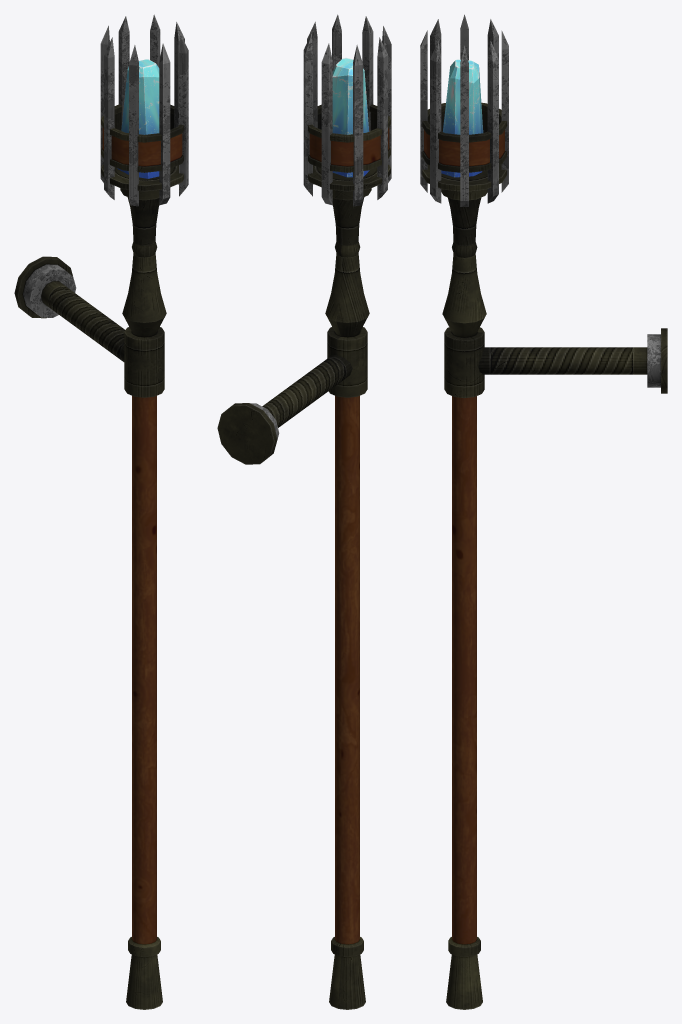
Rendered from DS_WizLab_Furn_WallLight.fbx.
The picture shows the model from 3 angles, left to right: view 1: azimuth 30°, elevation 25°; view 2: azimuth 150°, elevation 25°; view 3: azimuth 270°, elevation 25°; orthographic projection.
Visible parts, largest first — view 1: DS_WizLab_Furn_WallLight; view 2: DS_WizLab_Furn_WallLight; view 3: DS_WizLab_Furn_WallLight.
Boxes of the visible parts, x1=… form: DS_WizLab_Furn_WallLight: x1=14, y1=14, x2=188, y2=1009; DS_WizLab_Furn_WallLight: x1=217, y1=14, x2=391, y2=1009; DS_WizLab_Furn_WallLight: x1=420, y1=14, x2=667, y2=1009.
Size of the model in its own units: 15.37 by 186 by 42.9.
Materials: 1 (1 with a texture image).
